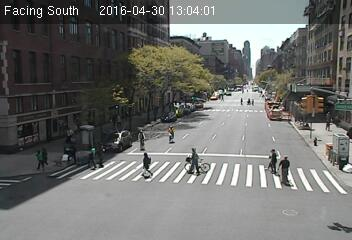neg: (29, 103, 52, 134), (211, 44, 229, 68), (162, 122, 179, 145), (155, 31, 172, 53), (291, 85, 305, 105), (196, 60, 209, 77), (183, 29, 196, 46), (274, 103, 284, 116)
pos: (134, 146, 160, 181), (183, 144, 206, 176), (279, 155, 301, 184), (31, 146, 49, 171), (323, 110, 339, 132), (236, 94, 246, 107)
